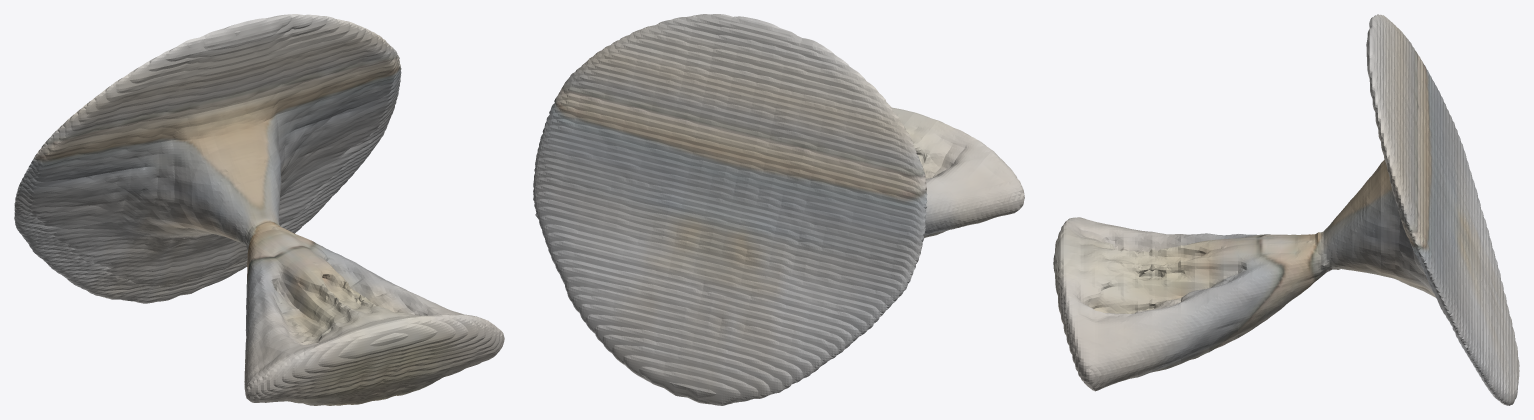
File: Soogilaud Annecy.glb
3 views of the same model, side by side, from view 1: azimuth 30°, elevation 25°; view 2: azimuth 150°, elevation 25°; view 3: azimuth 270°, elevation 25° (orthographic). The views are drawn at different scales.
Parts seen in each view (by area): view 1: world; view 2: world; view 3: world.
Part boxes in pixels (x1,y1,x2,y2): world: (14, 14, 504, 405); world: (533, 14, 1024, 405); world: (1053, 14, 1519, 405).
Size of the model in its own units: 0.8918 by 0.7309 by 0.8892.
